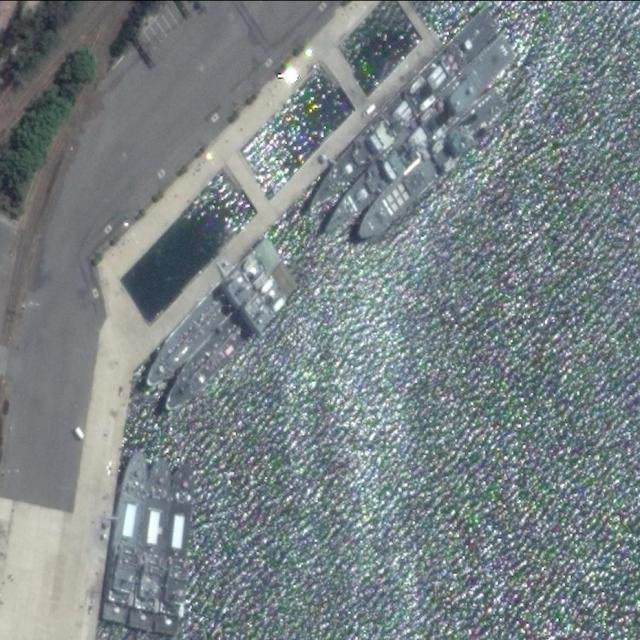Frigate: (312, 32, 522, 246), (297, 8, 502, 218)
Landing: (155, 264, 305, 420), (137, 237, 286, 394), (99, 446, 156, 622), (129, 447, 180, 629), (156, 456, 200, 634)
Other Warship: (350, 85, 511, 250)
